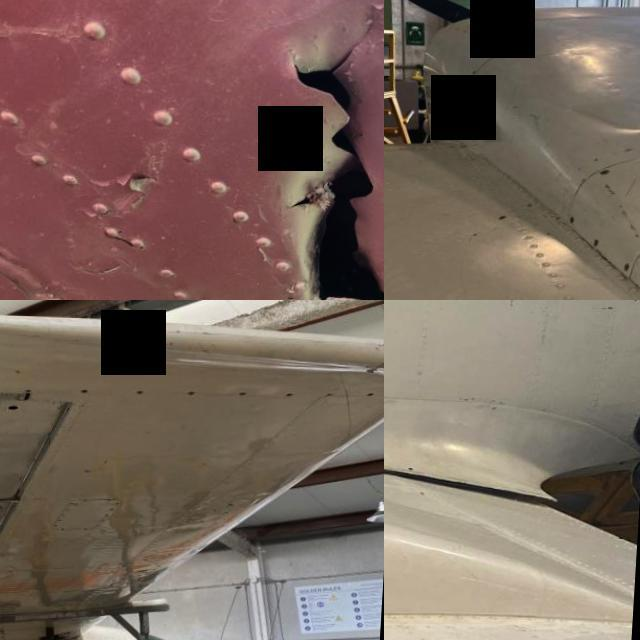Crack: (257, 10, 384, 300), (109, 322, 370, 343)
Dent: (555, 95, 640, 139)
Missing_Fastener: (138, 388, 148, 394), (368, 389, 379, 394), (287, 390, 296, 395), (82, 388, 92, 392), (27, 388, 36, 392)
